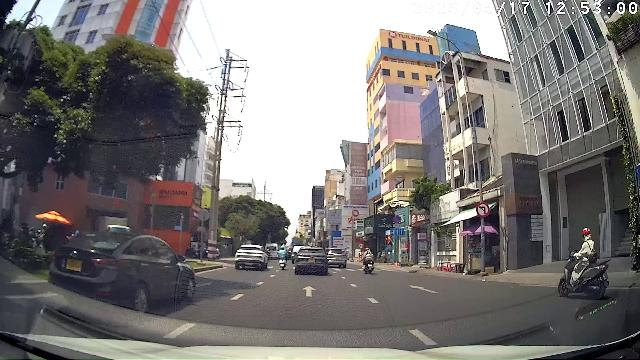123a-cam-re-trai: (476, 202, 490, 217)
